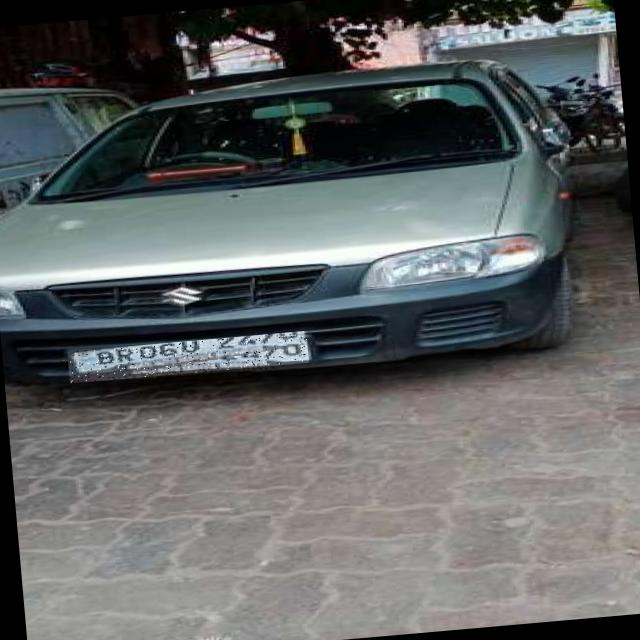Plate: (68, 331, 310, 384)
